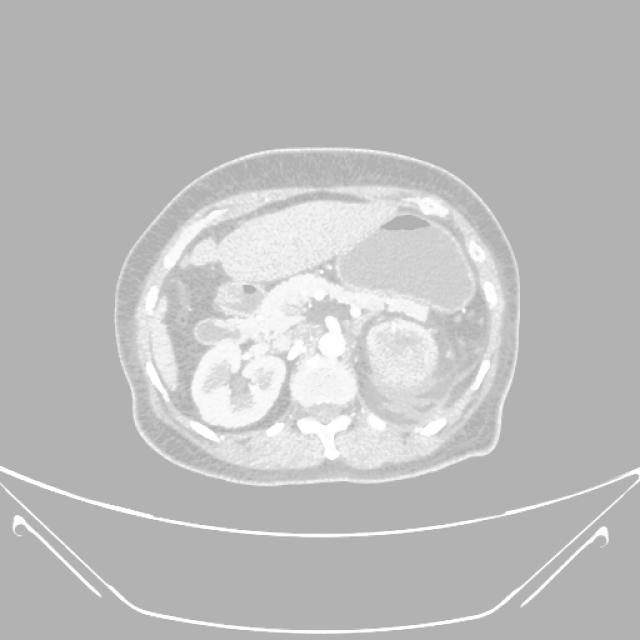TUMOR: (122, 186, 540, 387)
